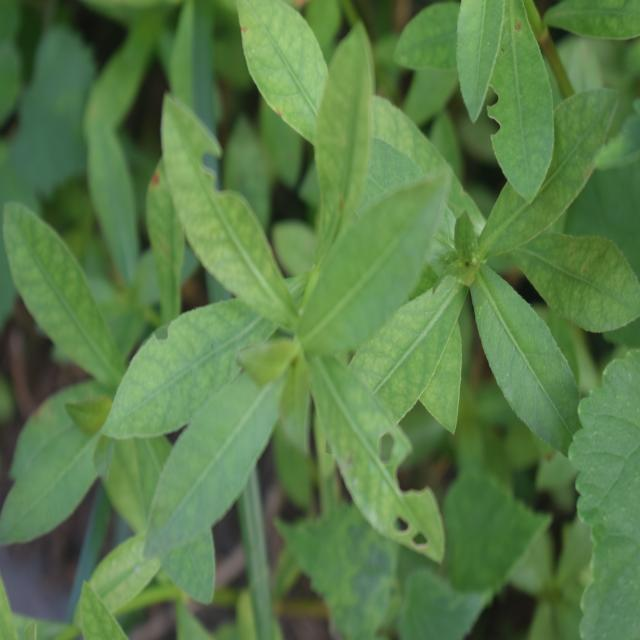Alligatorweed: (131, 82, 457, 566), (329, 92, 593, 438)
